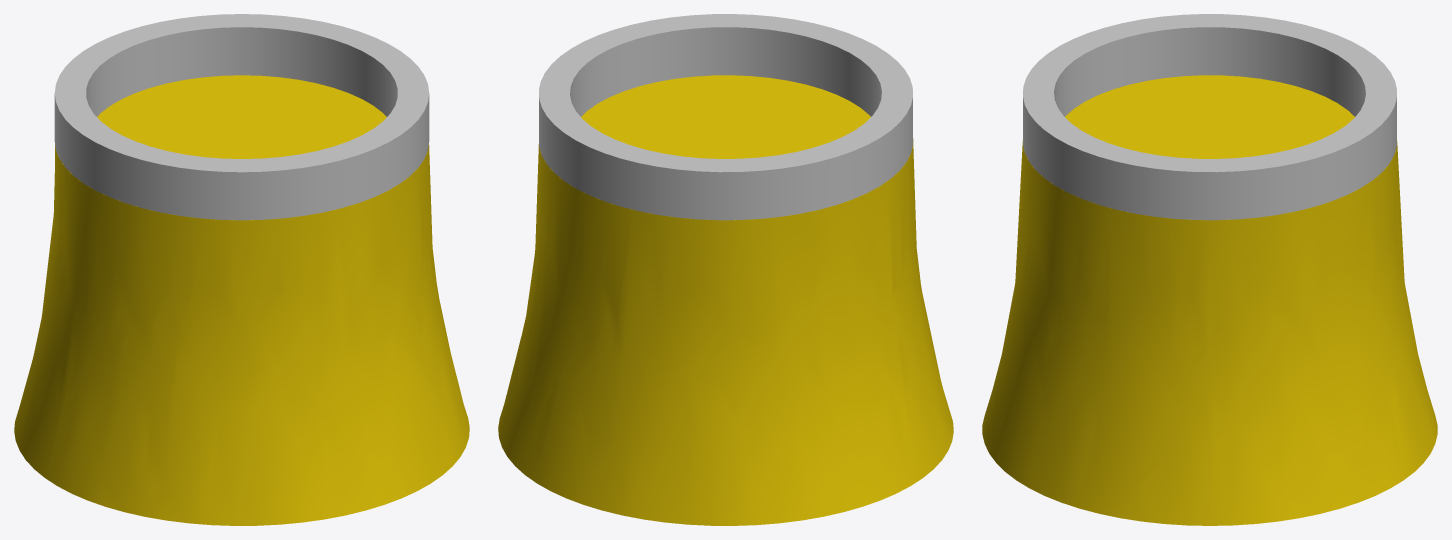
Rendered from LWR_Link0.dae.
3 renders of one model, left to right at view 1: azimuth 30°, elevation 25°; view 2: azimuth 150°, elevation 25°; view 3: azimuth 270°, elevation 25°, orthographic.
Visible parts, largest first — view 1: Mesh, Mesh_002; view 2: Mesh, Mesh_002; view 3: Mesh, Mesh_002.
Part boxes in pixels (left/top/right/bottom): Mesh: left=14, top=75, right=469, bottom=525; Mesh_002: left=54, top=14, right=429, bottom=220; Mesh: left=498, top=75, right=953, bottom=525; Mesh_002: left=539, top=14, right=912, bottom=220; Mesh: left=982, top=75, right=1437, bottom=525; Mesh_002: left=1023, top=14, right=1396, bottom=220.
Bounding box in the file's own units: 0.146 × 0.1458 × 0.119.
